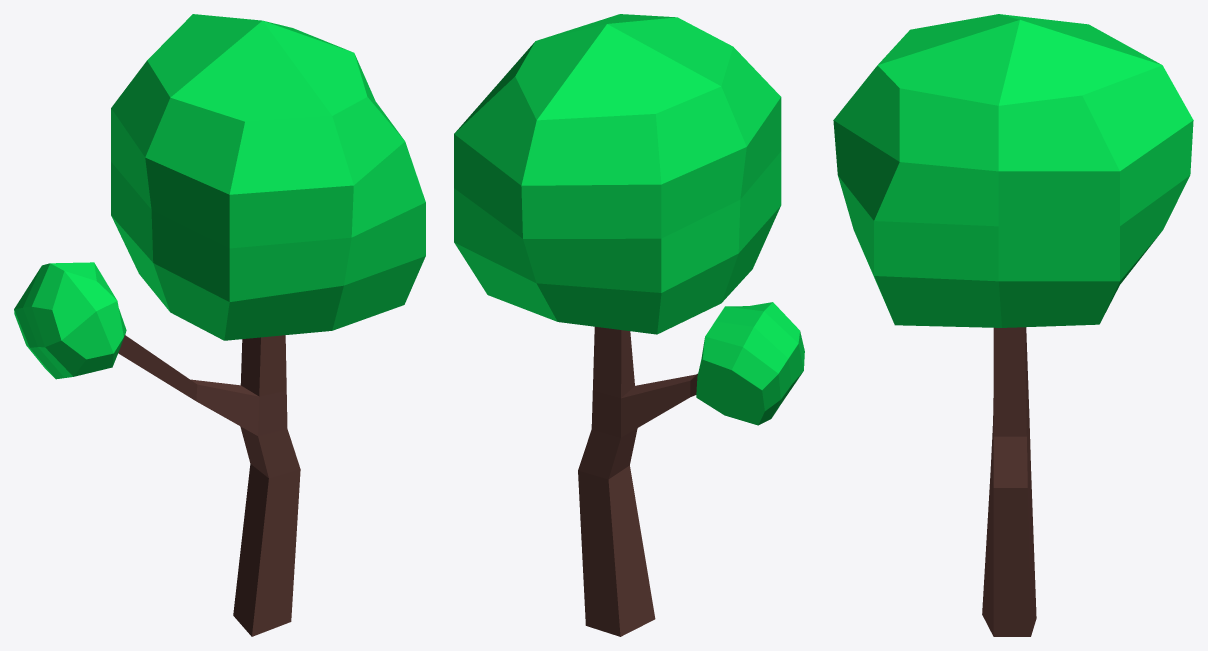
The model's file is Tree1.fbx.
3 views of the same model, side by side, from view 1: azimuth 30°, elevation 25°; view 2: azimuth 150°, elevation 25°; view 3: azimuth 270°, elevation 25° (orthographic). The views are drawn at different scales.
Parts seen in each view (by area): view 1: Leaves, Stem; view 2: Leaves, Stem; view 3: Leaves, Stem.
Boxes of the visible parts, box(x1,y1,x2,y2) form: Leaves: box(14, 14, 425, 379); Stem: box(118, 335, 300, 636); Leaves: box(454, 14, 804, 425); Stem: box(578, 326, 697, 636); Leaves: box(833, 14, 1193, 327); Stem: box(982, 327, 1036, 636).
Size of the model in its own units: 533 by 969 by 519.
